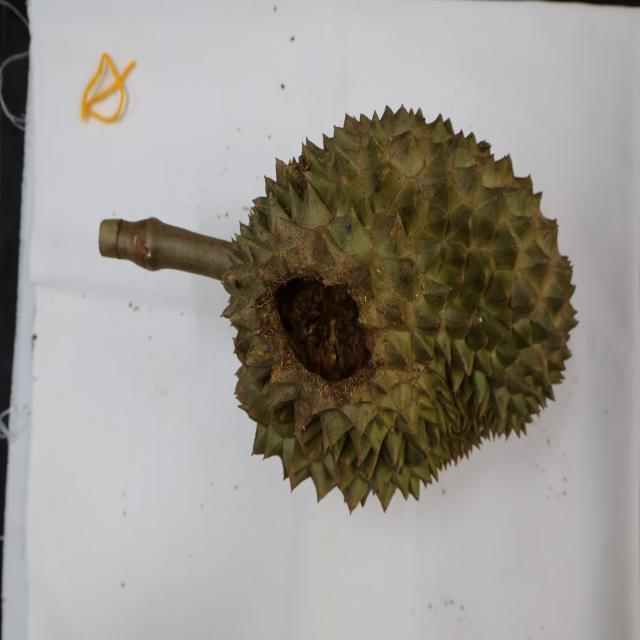defective: (220, 104, 579, 514)
